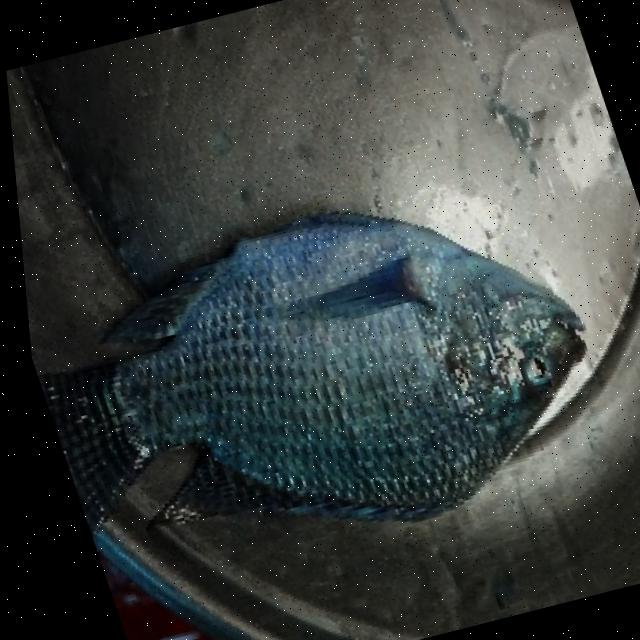Fresh: (75, 153, 640, 592)
